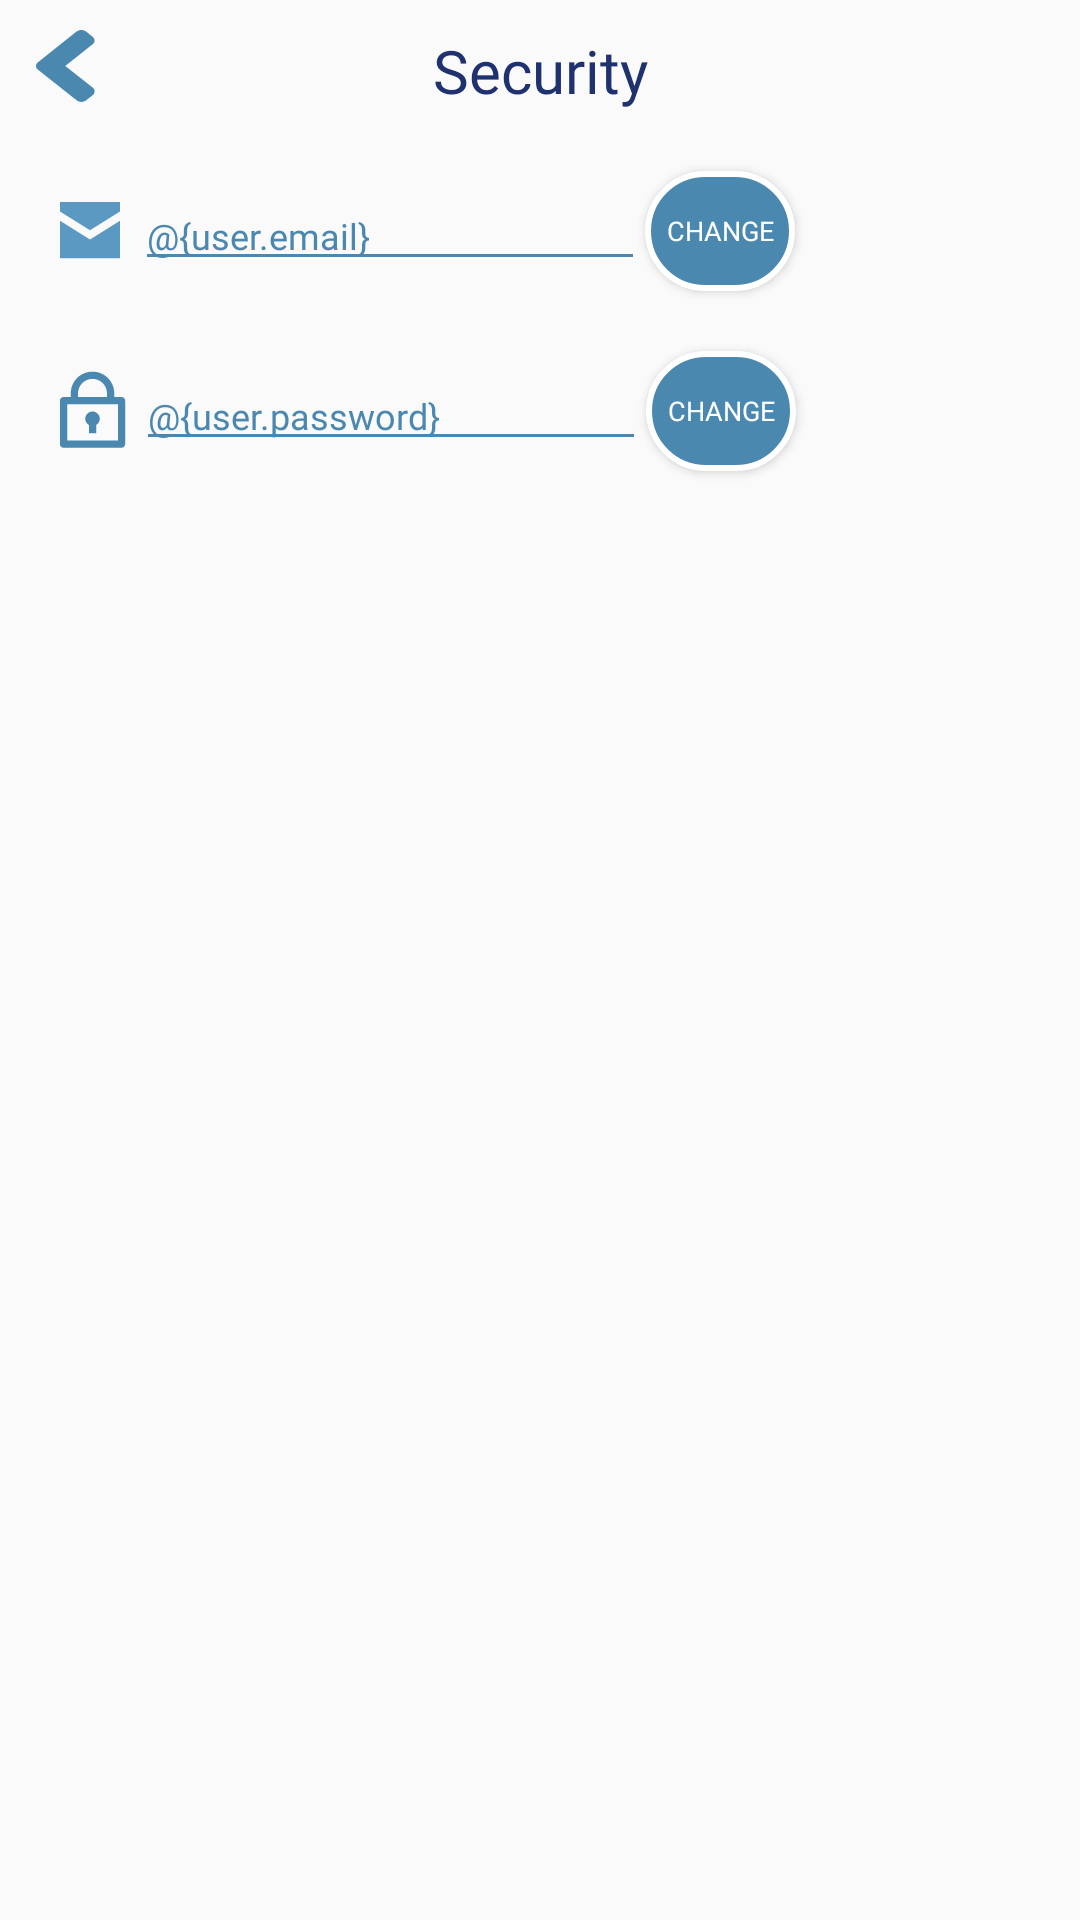

Screen size 1080 x 1920. Icon name, then its center in pixels as point (x, y):
back arrow: point (65, 66)
email: point (90, 230)
